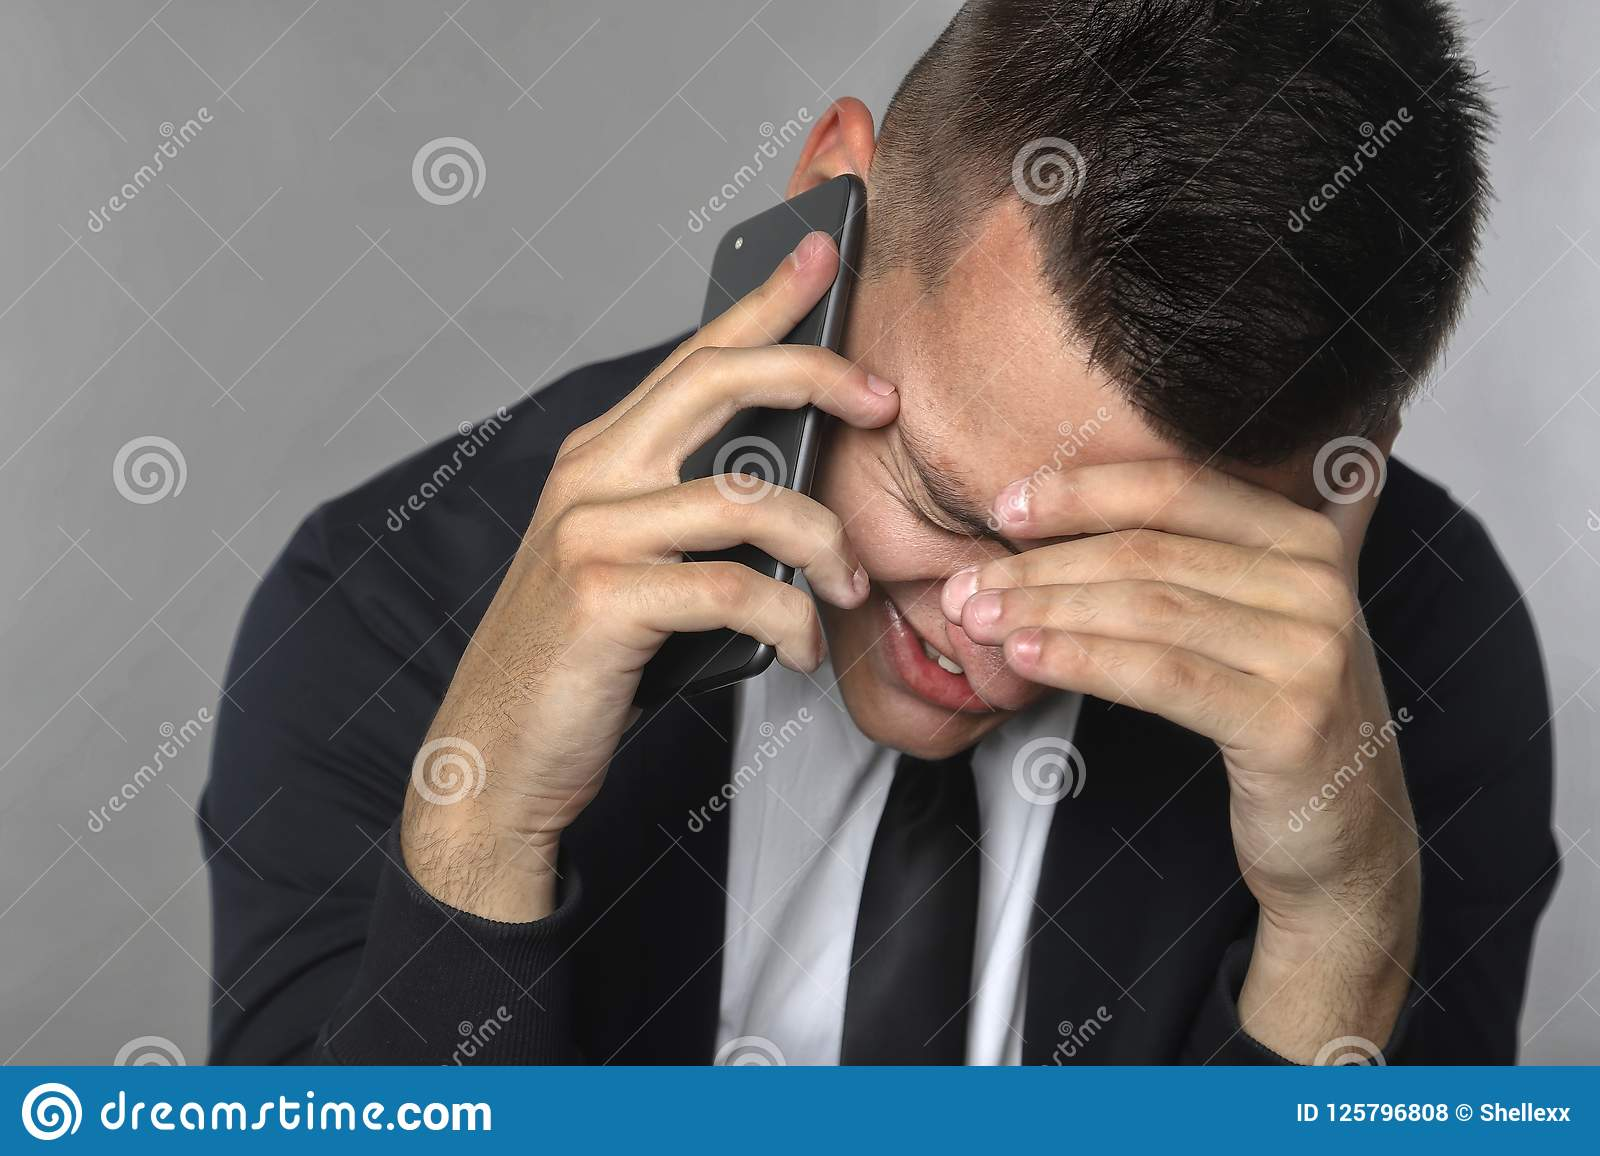phone: (629, 163, 875, 698)
talk: (421, 148, 1358, 846)
